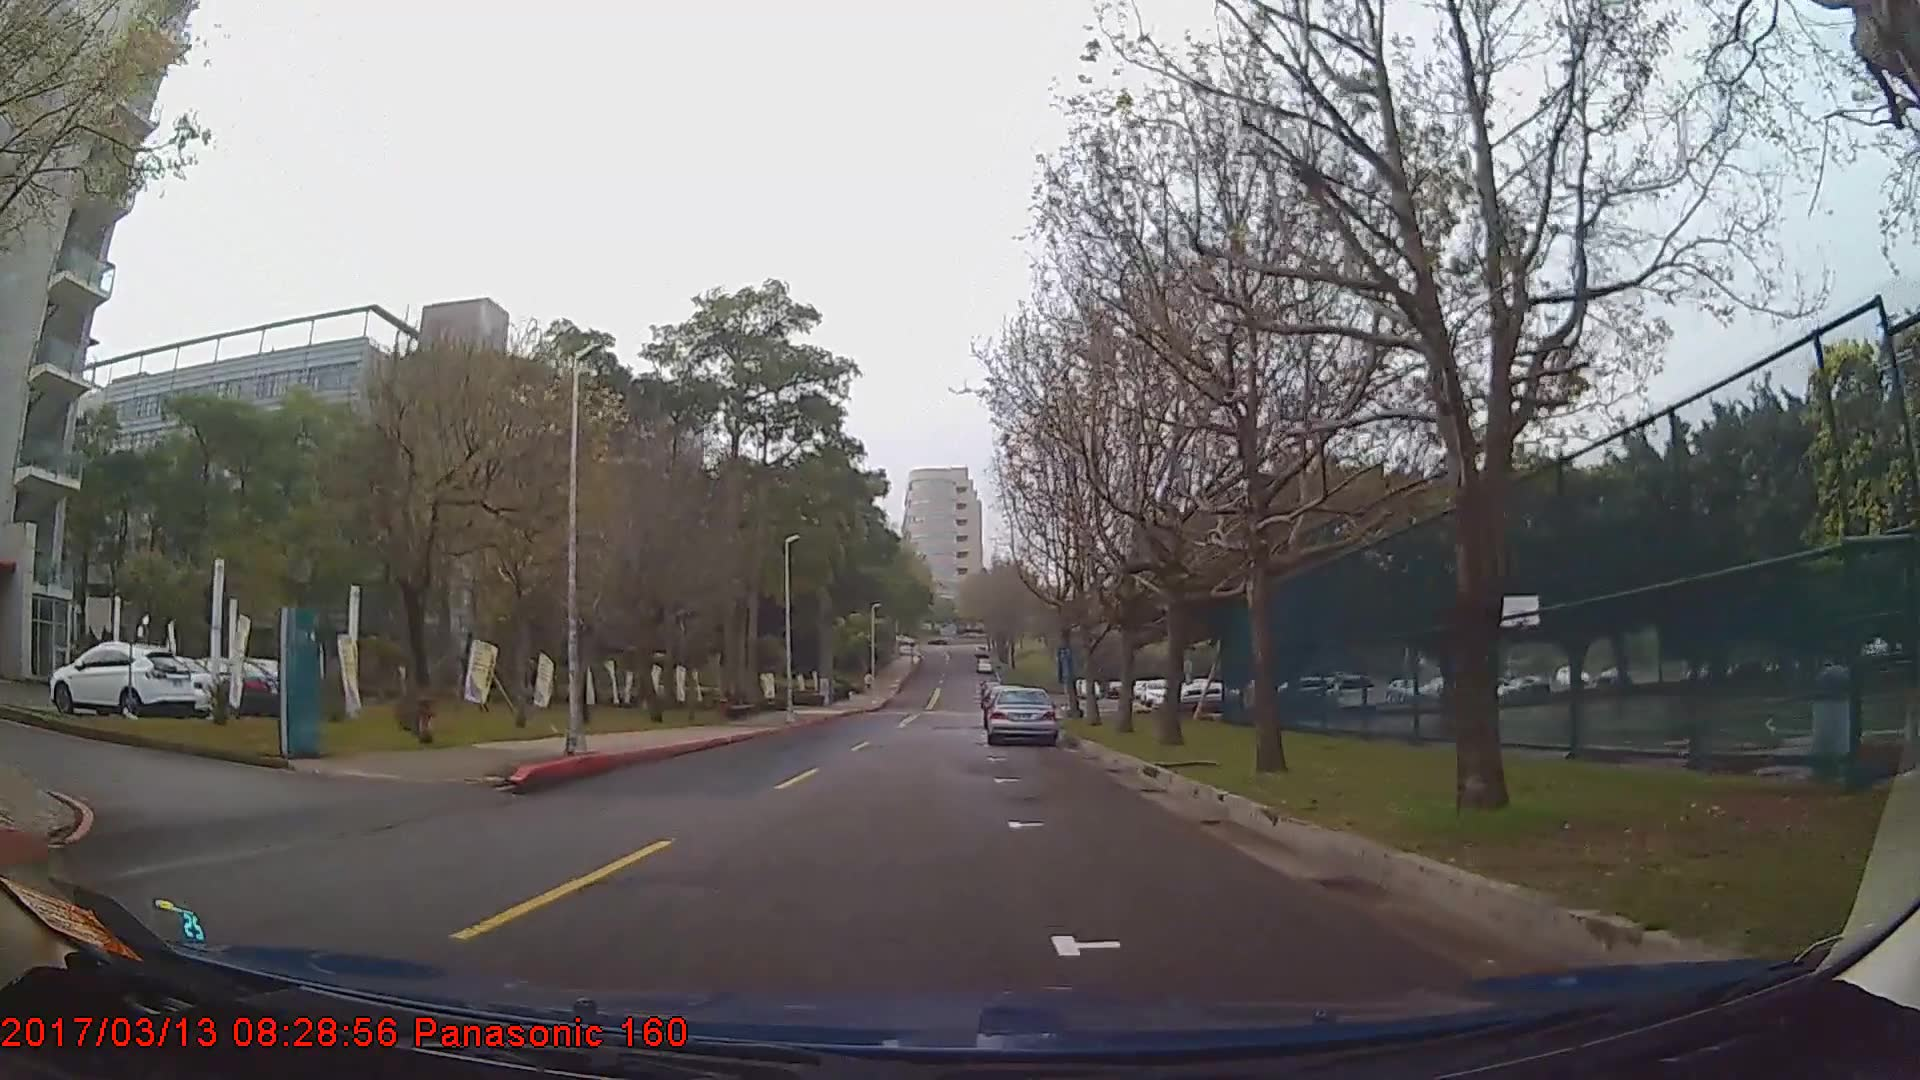vehicle: (47, 640, 195, 717), (102, 650, 229, 711), (986, 686, 1058, 746)
